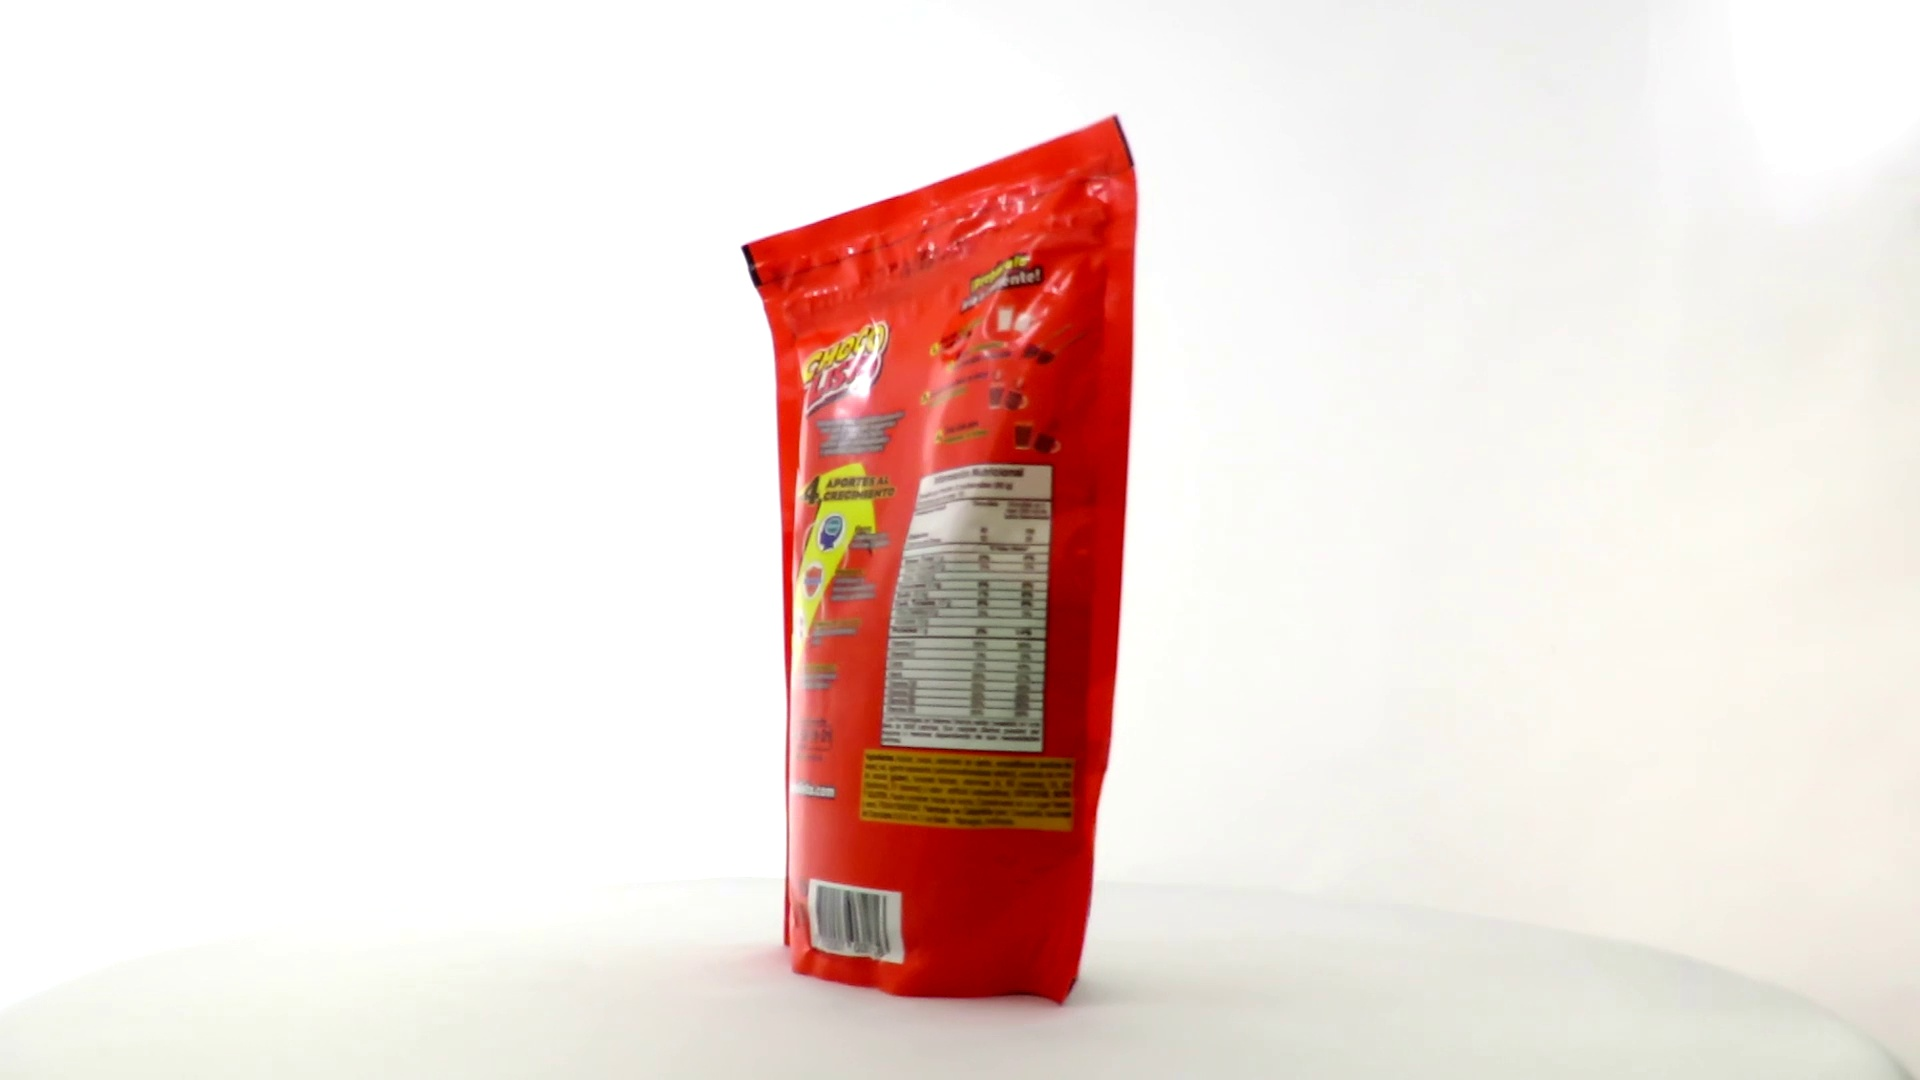COL0170103DYP36000: (736, 109, 1145, 1013)
